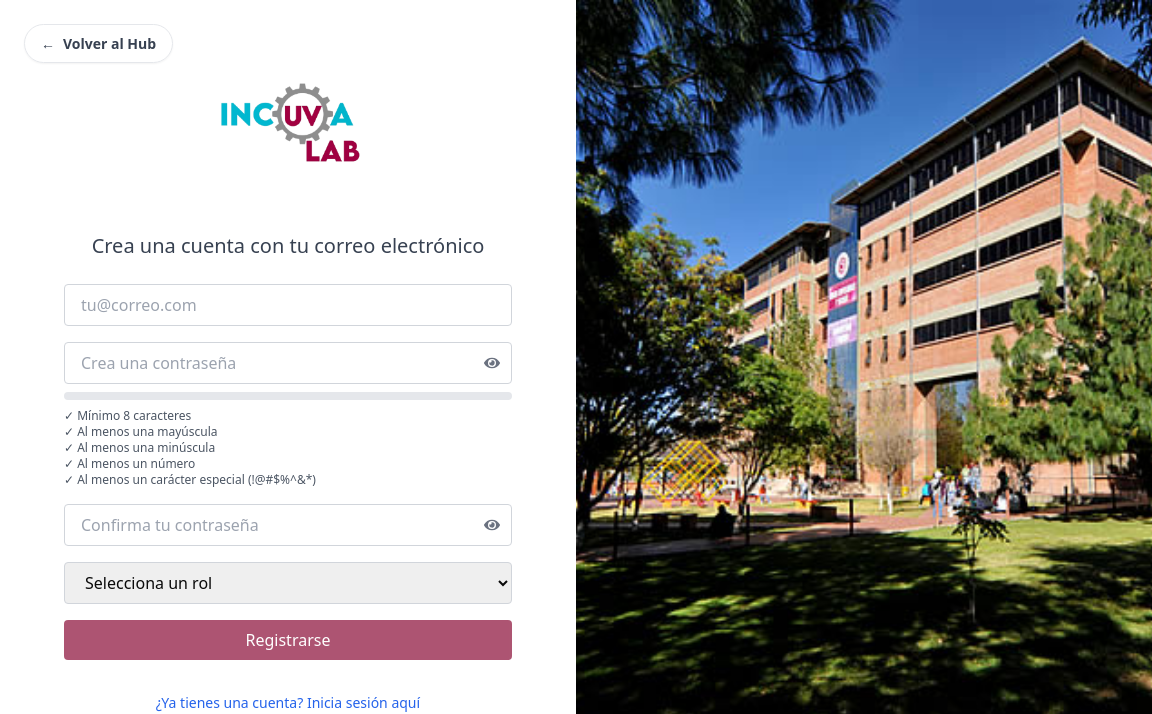
Scenario: RegisterForm › indica "Contraseña segura" cuando cumple todos los requisitos
The image size is (1152, 714).
Type "Clave123!" into the password field with placeholder "Crea una contraseña" at (288, 363), box 64,342 -> 512,384
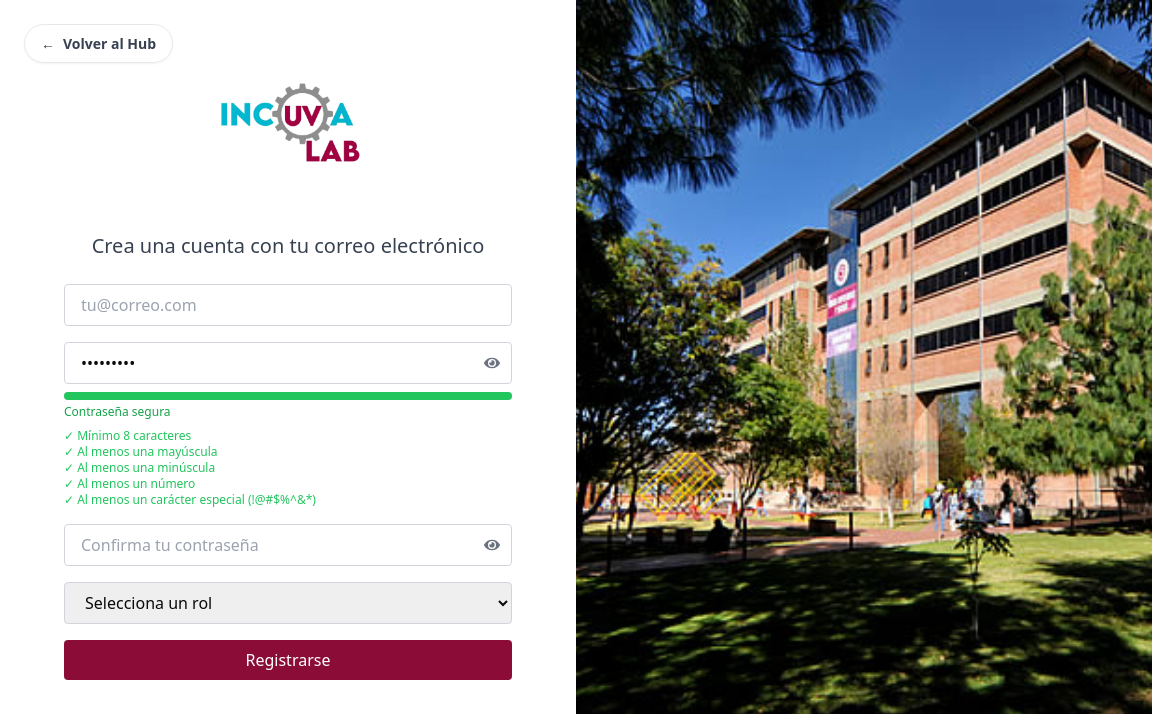
Now the text "Contraseña segura" is shown, box 64,403 -> 171,420
